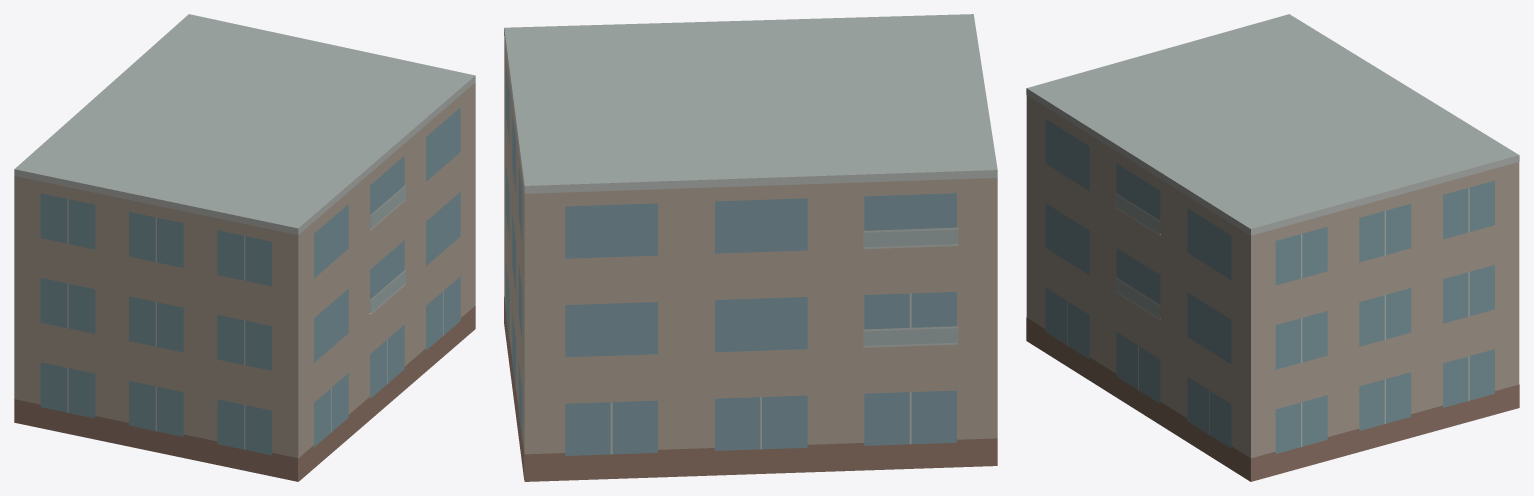
File: survey-upis-32751855.glb
3 views of the same model, side by side, from view 1: azimuth 30°, elevation 25°; view 2: azimuth 150°, elevation 25°; view 3: azimuth 270°, elevation 25° (orthographic). The views are drawn at different scales.
Visible parts, largest first — view 1: survey-upis-32751855.tmp; view 2: survey-upis-32751855.tmp; view 3: survey-upis-32751855.tmp.
Boxes of the visible parts, <box> form: survey-upis-32751855.tmp: <box>14,14,475,481</box>; survey-upis-32751855.tmp: <box>504,14,997,481</box>; survey-upis-32751855.tmp: <box>1026,14,1519,481</box>.
Size of the model in its own units: 16.89 by 9.25 by 16.36.
